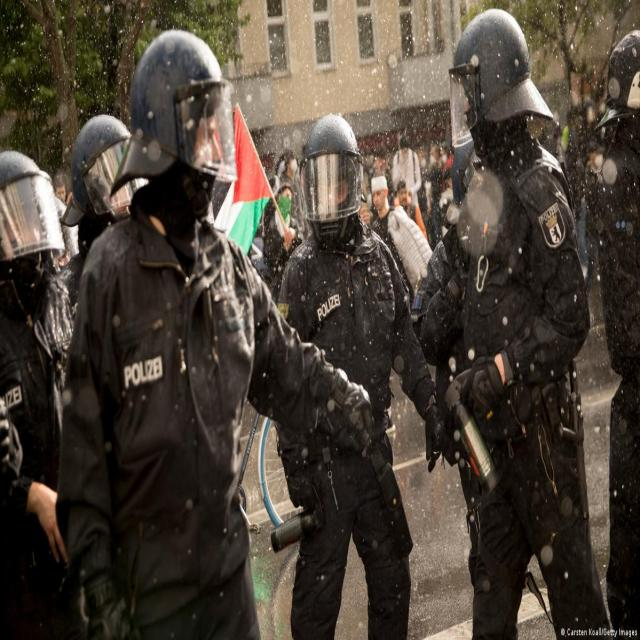police: (58, 10, 371, 640), (265, 85, 437, 640), (439, 10, 584, 640), (0, 113, 73, 640)
